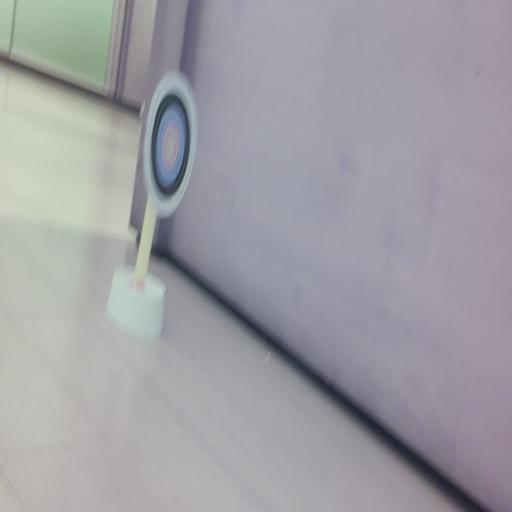target: (143, 72, 197, 217)
